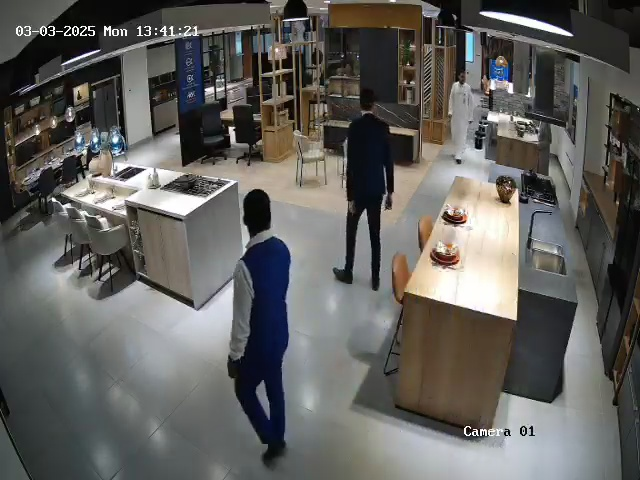employee: (226, 189, 291, 465), (332, 88, 395, 291)
male: (448, 69, 474, 165)
